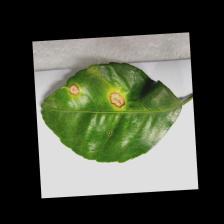canker: (58, 70, 128, 110)
